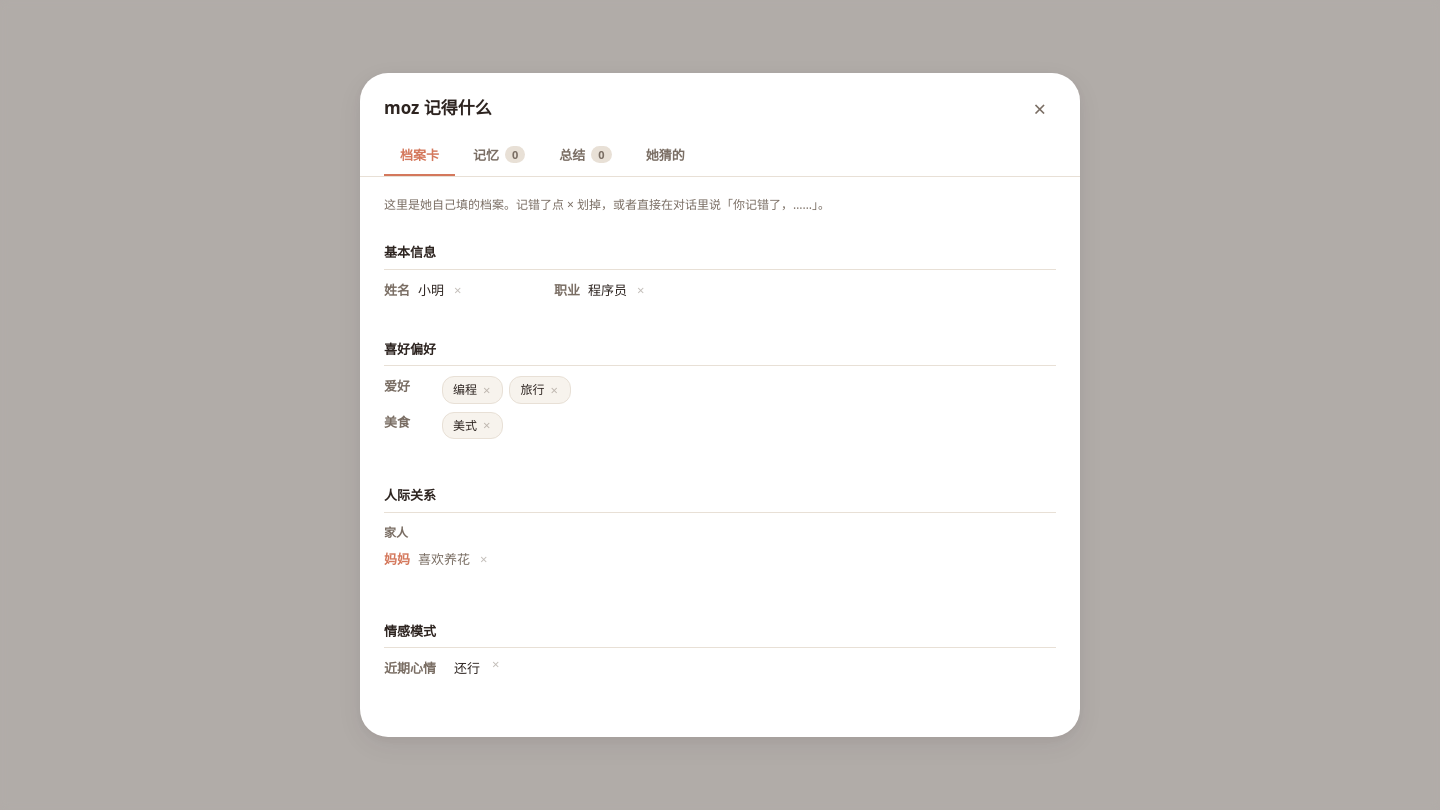
Test case: 档案卡上能把记错的划掉 › 基本信息的姓名也能划掉，并提示可以开口纠正
Check: the element with class "mem-kv-item" showing "姓名 小明 ×" is shown, box [384,281,464,299]
Click the button with class "mem-tag-x" next to "小明" at x=458, y=290, box [452,284,463,297]
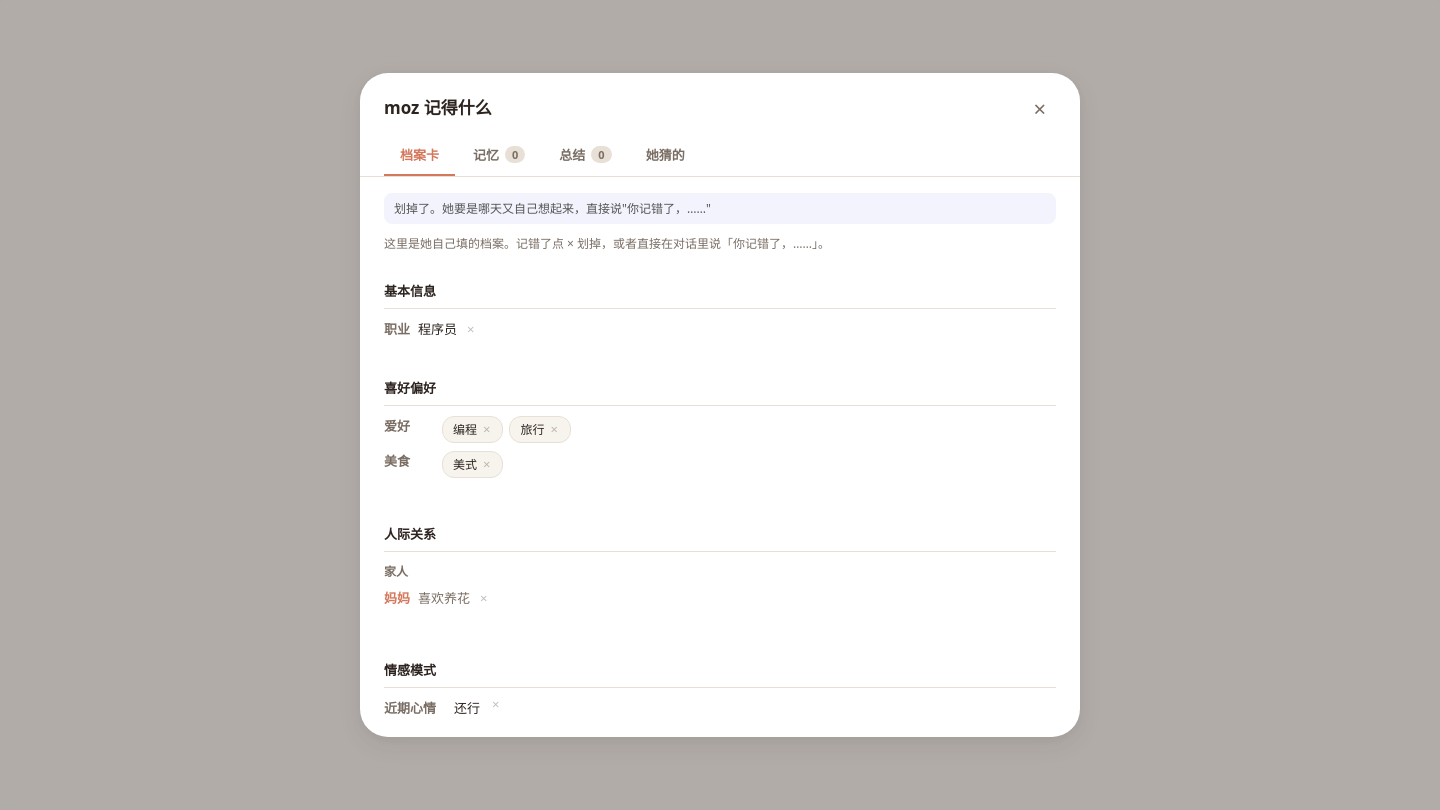
Check: the text "小明" is gone
